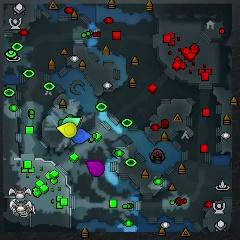p1: (72, 128, 92, 143)
p2: (63, 117, 80, 125)
p3: (86, 160, 104, 176)
p4: (56, 123, 77, 138)
